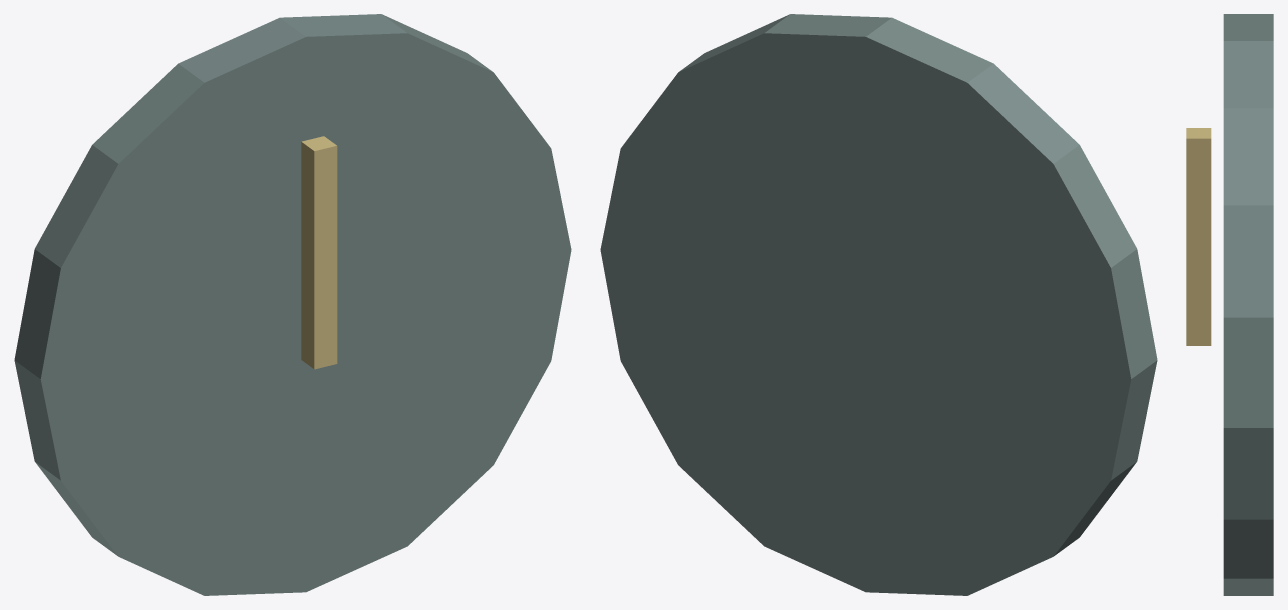
The model's file is performance-gauge-eco.glb.
3 views of the same model, side by side, from view 1: azimuth 30°, elevation 25°; view 2: azimuth 150°, elevation 25°; view 3: azimuth 270°, elevation 25° (orthographic). The views are drawn at different scales.
Parts seen in each view (by area): view 1: base, needle; view 2: base; view 3: base, needle.
Part boxes in pixels (x1,y1,x2,y2): base: [14, 14, 571, 595]; needle: [301, 136, 337, 369]; base: [600, 14, 1157, 595]; base: [1223, 14, 1273, 595]; needle: [1186, 128, 1211, 345].
Bounding box in the file's own units: 1.4 × 1.4 × 0.21.
